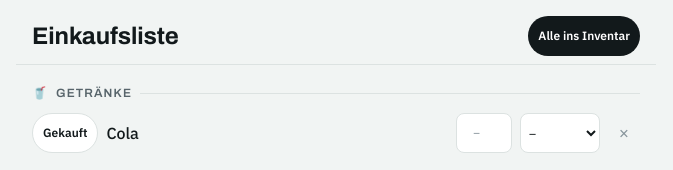
it: ShoppingList › removes an entry
Click the button named "Cola von der Liste entfernen". click: (624, 133)
box: [608, 113, 640, 153]
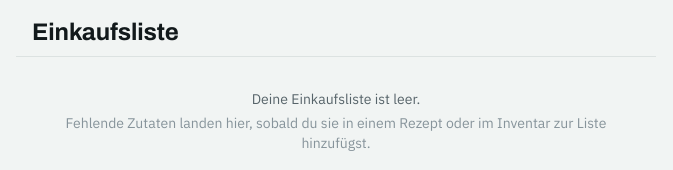
Now the text "Cola" is gone
